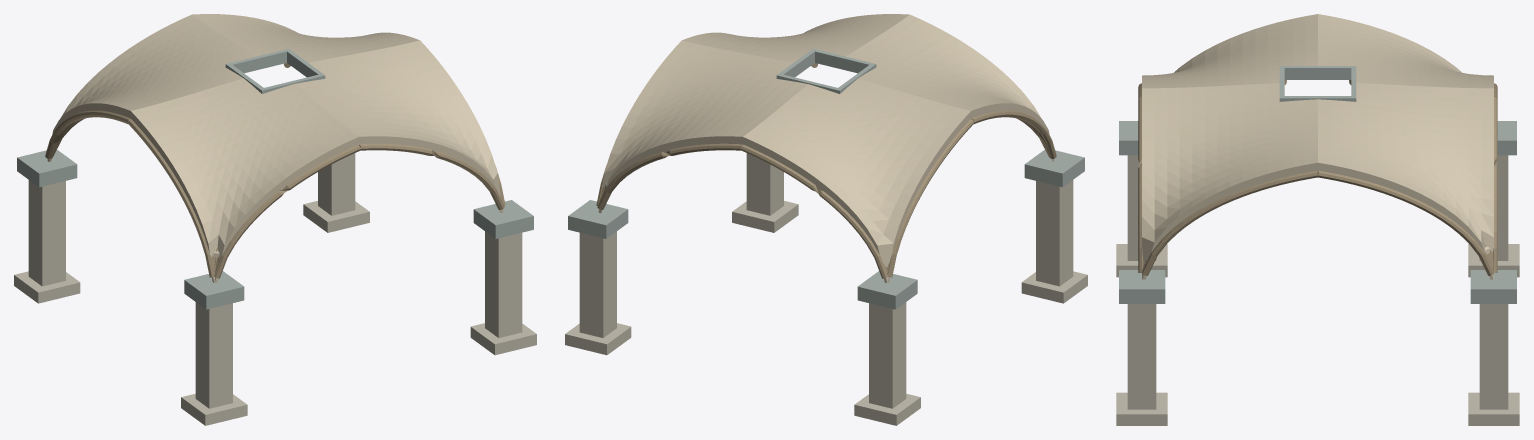
3 views of the same model, side by side, from view 1: azimuth 30°, elevation 25°; view 2: azimuth 150°, elevation 25°; view 3: azimuth 270°, elevation 25° (orthographic). The views are drawn at different scales.
Parts seen in each view (by area): view 1: WholeFourConoidShellWithOpenSquareCrown, WholeCornerPier00, WholeCornerPier10, WholeCornerPier01, WholeCornerPier11, WholeCornerSpringCapital10, WholeCornerSpringCapital01, WholeCornerSpringCapital00, WholeRadiatingFanRib000, WholeCornerPierFoot11, WholeCornerPierFoot10, WholeCornerPierFoot00 (+5 smaller); view 2: WholeFourConoidShellWithOpenSquareCrown, WholeCornerPier01, WholeCornerPier11, WholeCornerPier00, WholeCornerPier10, WholeCornerSpringCapital11, WholeCornerSpringCapital00, WholeCornerSpringCapital01, WholeRadiatingFanRib010, WholeCornerPierFoot10, WholeCornerPierFoot11, WholeCornerPierFoot00 (+5 smaller); view 3: WholeFourConoidShellWithOpenSquareCrown, WholeCornerPier10, WholeCornerPier11, WholeRadiatingFanRib106, WholeRadiatingFanRib116, WholeCornerSpringCapital10, WholeCornerSpringCapital11, WholeCornerPierFoot10, WholeCornerPierFoot11, WholeCornerPier01, WholeCornerPier00, WholeOpenCrownRim2 (+6 smaller).
Part boxes in pixels (box(x1,y1,x2,y2)): WholeFourConoidShellWithOpenSquareCrown: box(47, 14, 503, 282); WholeCornerPier00: box(195, 302, 232, 408); WholeCornerPier10: box(485, 231, 522, 337); WholeCornerPier01: box(28, 180, 65, 286); WholeCornerPier11: box(318, 153, 355, 215); WholeCornerSpringCapital10: box(473, 200, 533, 238); WholeCornerSpringCapital01: box(17, 149, 77, 187); WholeCornerSpringCapital00: box(184, 271, 244, 309); WholeRadiatingFanRib000: box(214, 144, 360, 278); WholeCornerPierFoot11: box(303, 201, 369, 232); WholeCornerPierFoot10: box(470, 323, 536, 355); WholeCornerPierFoot00: box(181, 393, 247, 425); WholeFourConoidShellWithOpenSquareCrown: box(598, 14, 1054, 282); WholeCornerPier01: box(869, 302, 906, 408); WholeCornerPier11: box(579, 231, 616, 337); WholeCornerPier00: box(1036, 180, 1073, 286); WholeCornerPier10: box(746, 153, 783, 215); WholeCornerSpringCapital11: box(568, 200, 628, 238); WholeCornerSpringCapital00: box(1024, 149, 1084, 187); WholeCornerSpringCapital01: box(857, 271, 917, 309); WholeRadiatingFanRib010: box(741, 144, 887, 278); WholeCornerPierFoot10: box(732, 201, 798, 232); WholeCornerPierFoot11: box(565, 323, 631, 355); WholeCornerPierFoot00: box(1021, 271, 1087, 303); WholeFourConoidShellWithOpenSquareCrown: box(1142, 14, 1493, 279); WholeCornerPier10: box(1127, 304, 1156, 409); WholeCornerPier11: box(1479, 304, 1508, 409); WholeRadiatingFanRib106: box(1141, 171, 1317, 275); WholeRadiatingFanRib116: box(1318, 171, 1494, 275); WholeCornerSpringCapital10: box(1119, 270, 1165, 303); WholeCornerSpringCapital11: box(1470, 270, 1516, 303); WholeCornerPierFoot10: box(1116, 392, 1167, 425); WholeCornerPierFoot11: box(1468, 392, 1519, 425); WholeCornerPier01: box(1479, 155, 1508, 260); WholeCornerPier00: box(1127, 155, 1156, 260); WholeOpenCrownRim2: box(1284, 66, 1351, 79).
Size of the model in its own units: 5.04 by 3.57 by 5.04.
